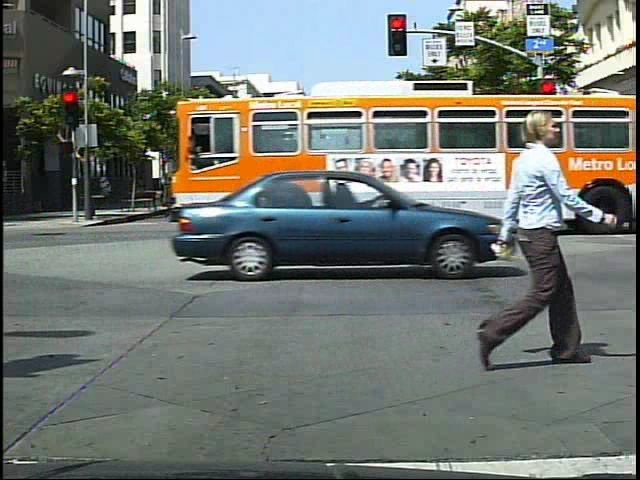person: (467, 95, 601, 397), (311, 165, 343, 228), (219, 167, 248, 233), (312, 166, 341, 230), (549, 160, 572, 211)
